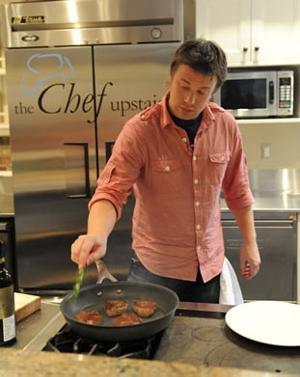person: (68, 38, 262, 303)
